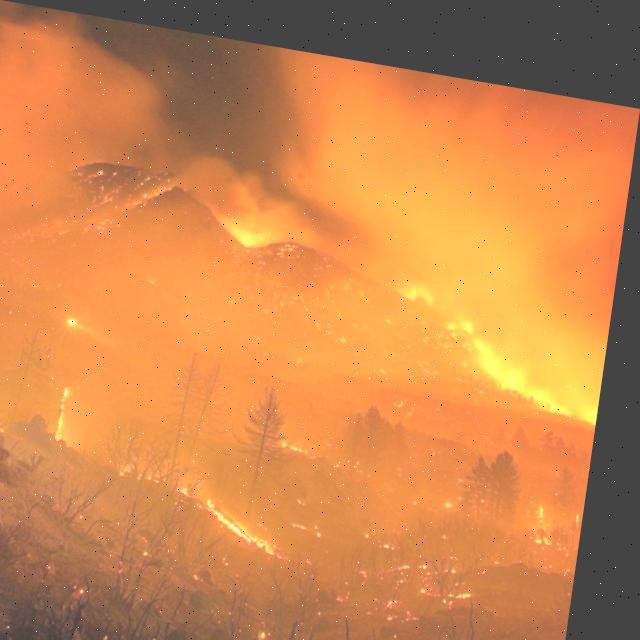Fire: (192, 210, 619, 407), (188, 475, 312, 552)
